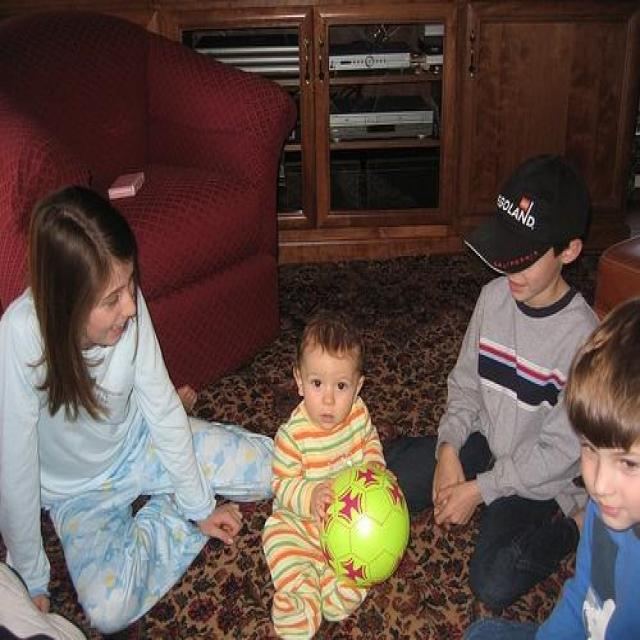No_Gloves: (195, 488, 244, 544), (427, 450, 465, 521), (441, 472, 479, 537), (314, 477, 336, 524)
